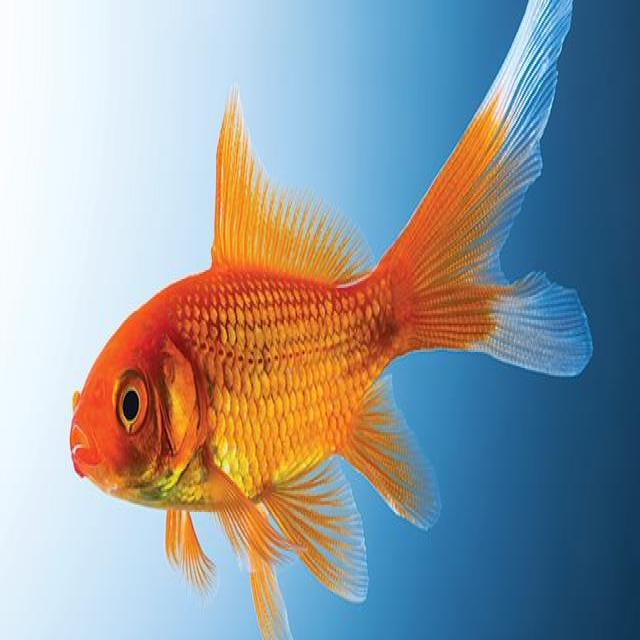GoldFish: (70, 0, 596, 633)
